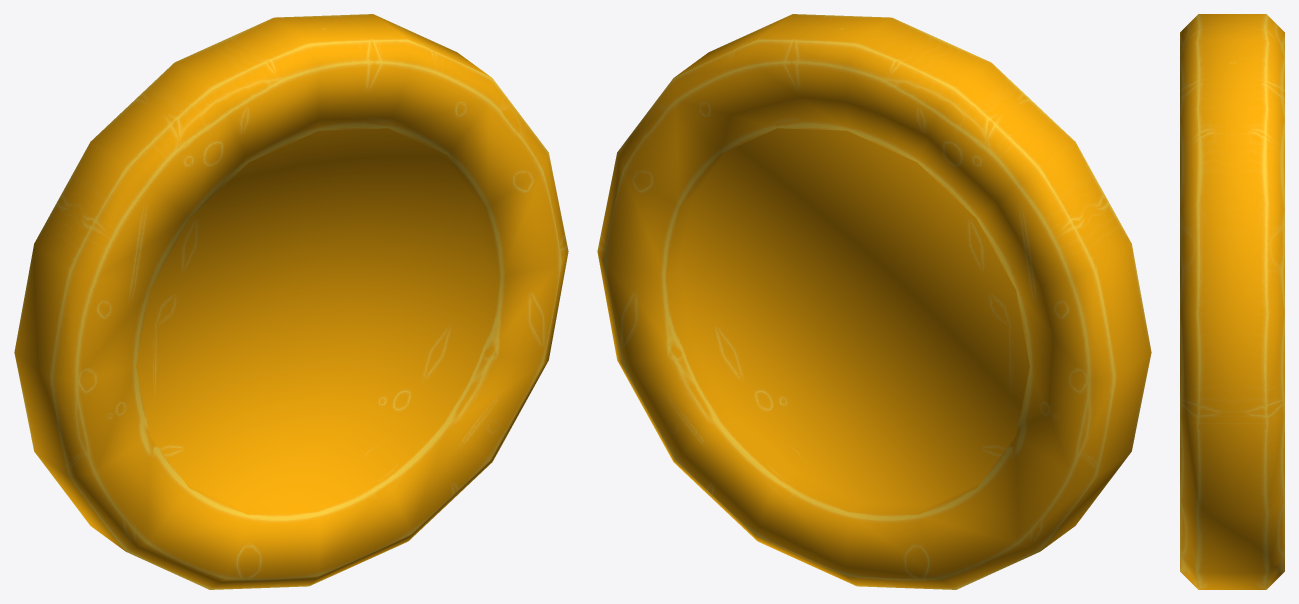
File: Coin.fbx
3 views of the same model, side by side, from view 1: azimuth 30°, elevation 25°; view 2: azimuth 150°, elevation 25°; view 3: azimuth 270°, elevation 25° (orthographic). The views are drawn at different scales.
Parts seen in each view (by area): view 1: Coin; view 2: Coin; view 3: Coin.
Part boxes in pixels (x1,y1,x2,y2): Coin: (14, 14, 568, 589); Coin: (597, 14, 1151, 589); Coin: (1180, 14, 1284, 589).
Bounding box in the file's own units: 67.71 × 67.71 × 12.33.
Materials: 1 (1 with a texture image).
